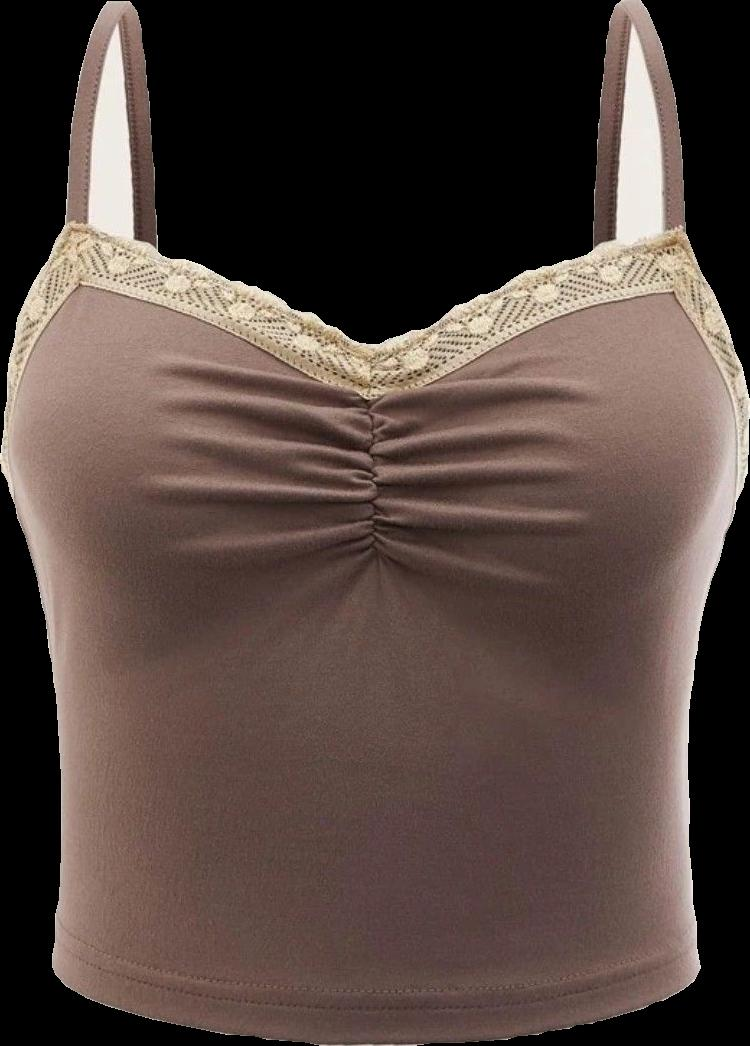Bodice: (1, 0, 749, 1042)
Neckline: (69, 0, 677, 355)
Waistline: (49, 956, 701, 1045)
